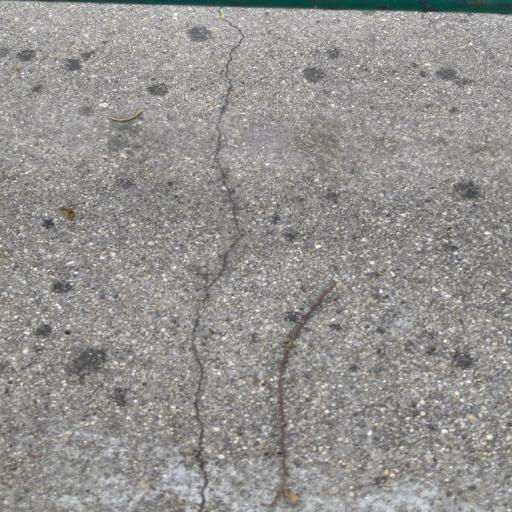minor_crack: (169, 8, 251, 512)
